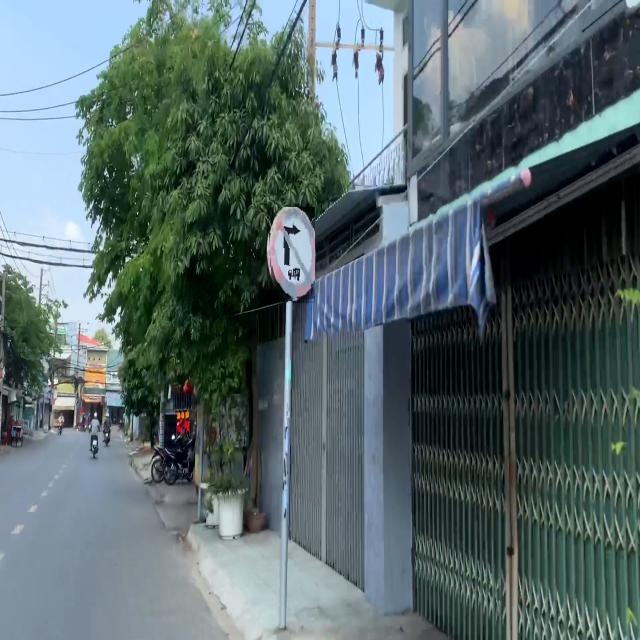bien_cam: (267, 207, 315, 303)
